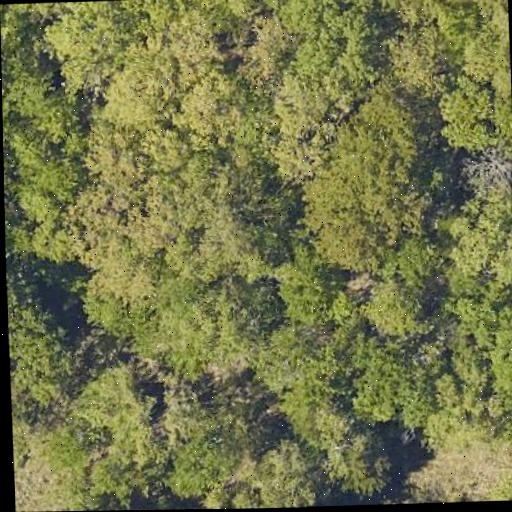tree-top: (291, 89, 443, 281), (127, 277, 279, 380), (263, 321, 361, 447), (66, 174, 188, 267), (276, 0, 381, 98), (433, 299, 512, 428), (8, 73, 83, 203), (47, 0, 162, 84), (75, 360, 165, 456), (8, 304, 85, 416), (193, 171, 285, 259), (102, 40, 183, 135), (158, 0, 258, 76), (308, 415, 397, 496), (352, 348, 443, 426), (178, 76, 269, 153), (85, 123, 188, 188), (414, 428, 512, 496), (161, 422, 247, 498), (454, 195, 512, 296), (426, 86, 503, 159), (386, 23, 463, 92), (5, 208, 75, 281), (275, 258, 343, 327), (362, 271, 428, 340), (38, 422, 100, 485), (458, 144, 512, 201)
